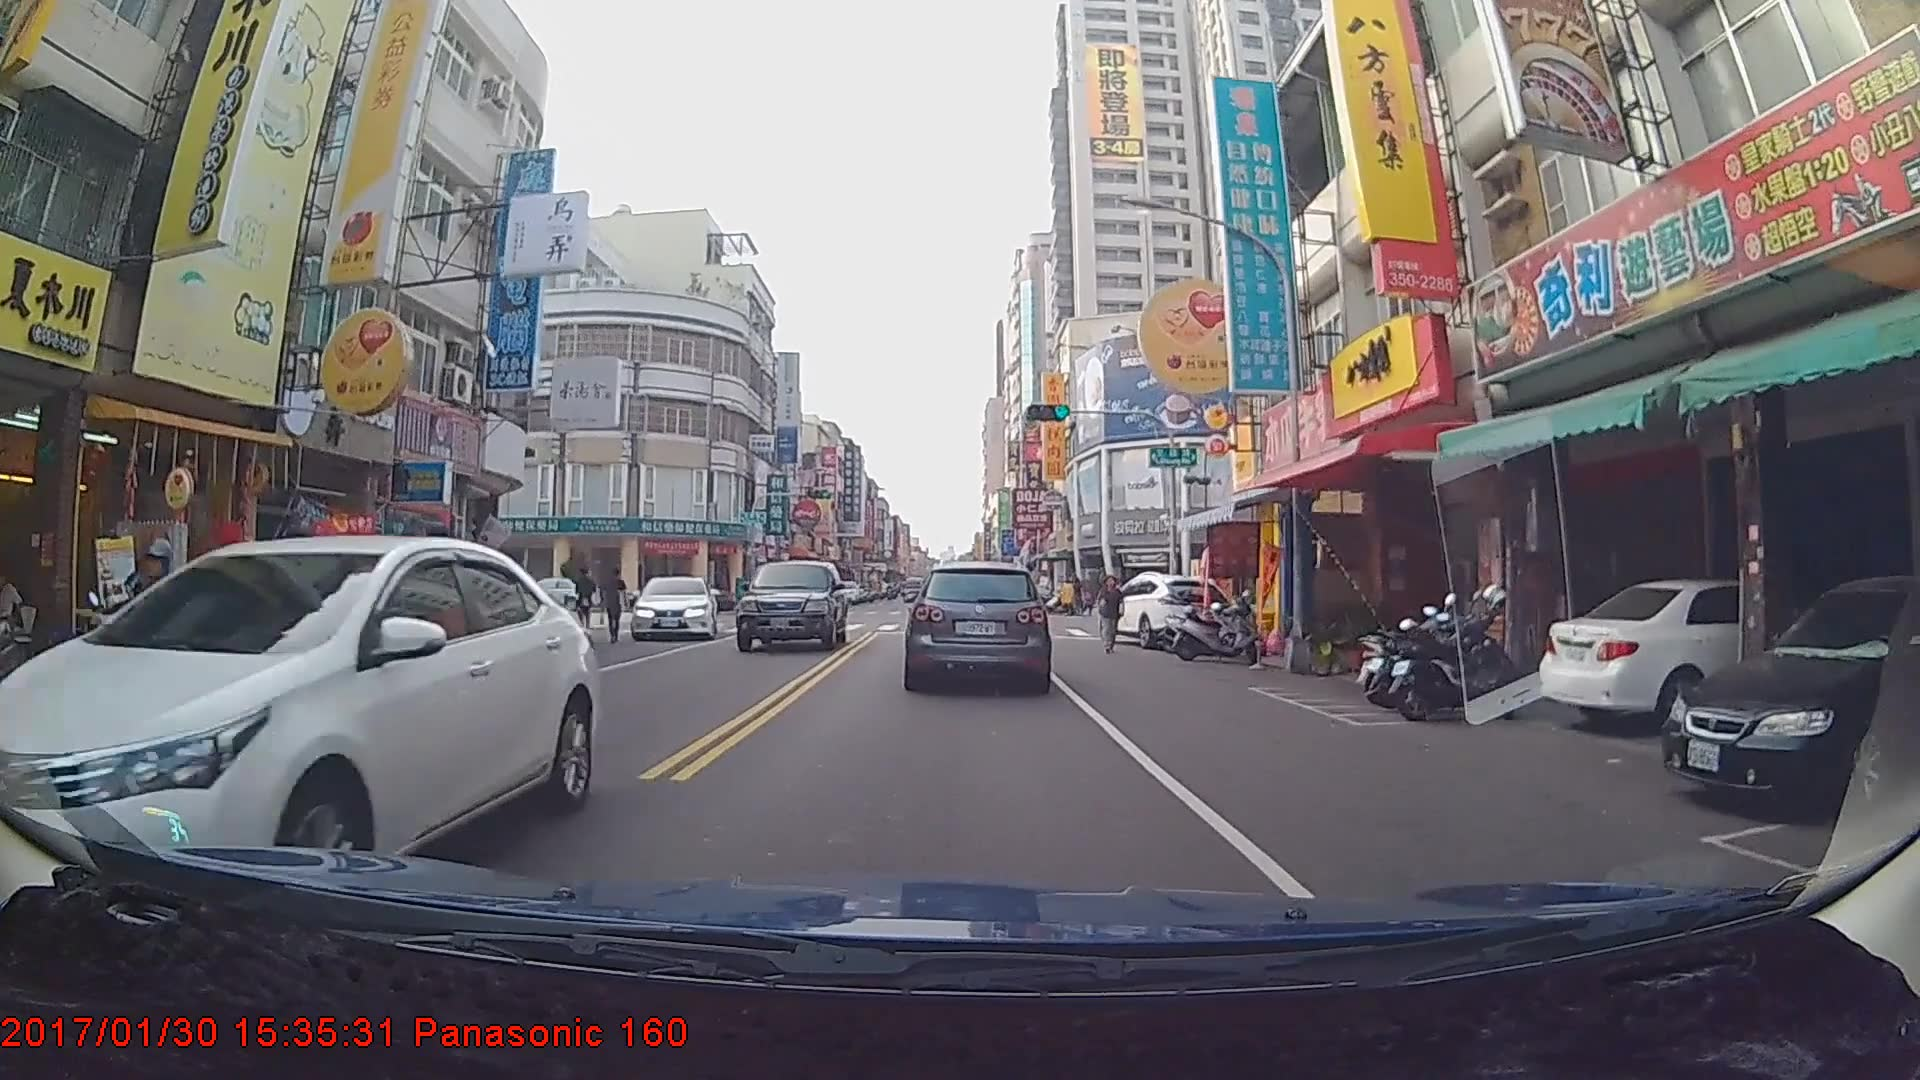pedestrian: (1096, 573, 1125, 654), (601, 566, 630, 640), (574, 566, 596, 639)
vehicle: (0, 532, 595, 925), (1656, 563, 1920, 819), (1535, 576, 1887, 736), (905, 561, 1049, 690), (1092, 574, 1238, 651), (737, 558, 846, 653), (631, 573, 717, 638), (901, 575, 927, 603)
